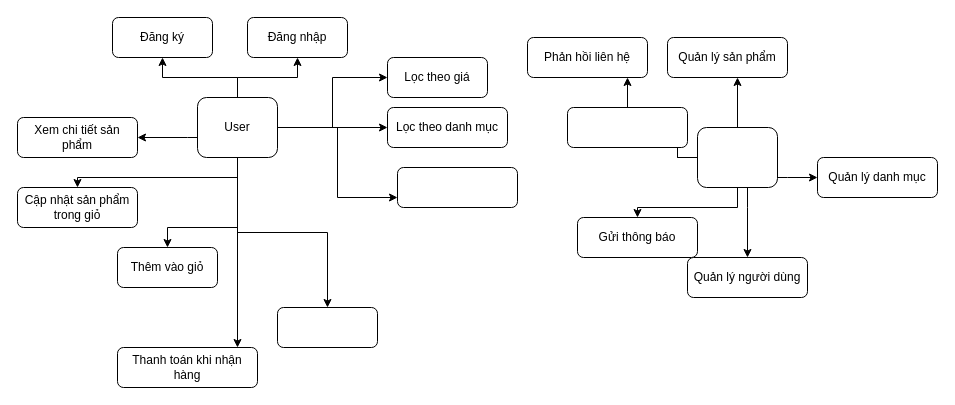
This 955x405 diagram has some shape labels left out. Each missing label, with the box of its shape:
Admin: (696, 126, 778, 188)
Checkout: (276, 306, 378, 348)
Quản lý đơn hàng: (566, 106, 688, 148)
Tìm kiếm sản phẩm: (396, 166, 518, 208)
